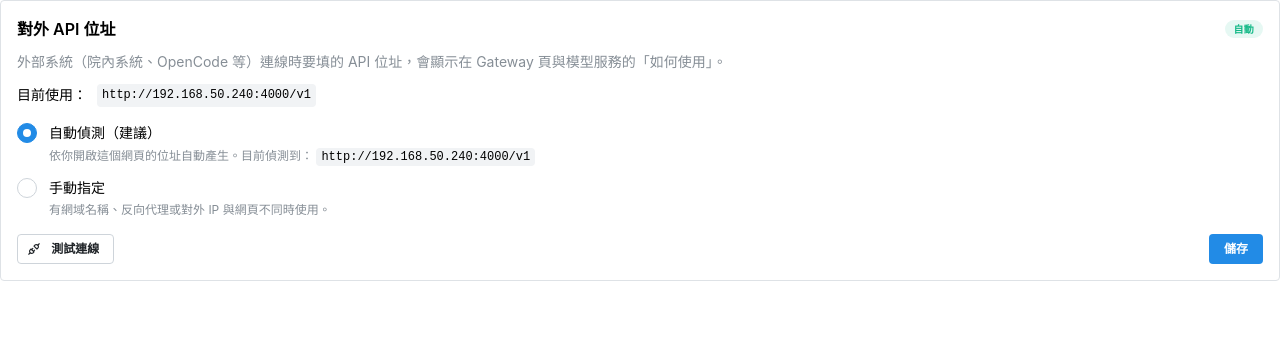
Test case: ApiBaseCard › shows auto value and switches to manual
expect the text with test id "api-base-effective" reads "http://192.168.50.240:4000/v1": met, box [102, 88, 311, 102]
expect the element with test id "api-base-source" reads "自動": met, box [1234, 23, 1254, 35]
Click the radio button labelled "手動指定" at (27, 188), box [17, 178, 37, 198]
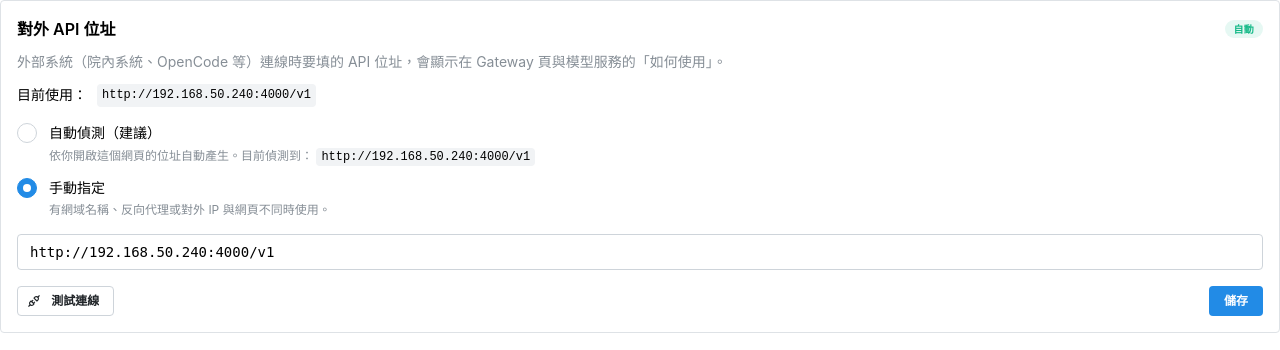
Replace the text in the field with test id "api-base-input" with "https://llm.hospital.lan/v1" at (640, 252), box [17, 234, 1263, 270]
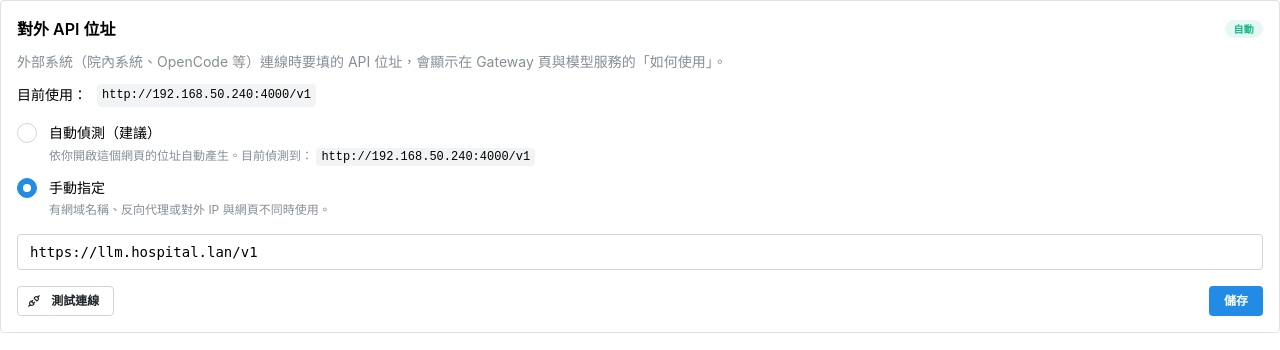
Click the button with test id "api-base-save" at (1236, 301), box [1209, 286, 1263, 316]
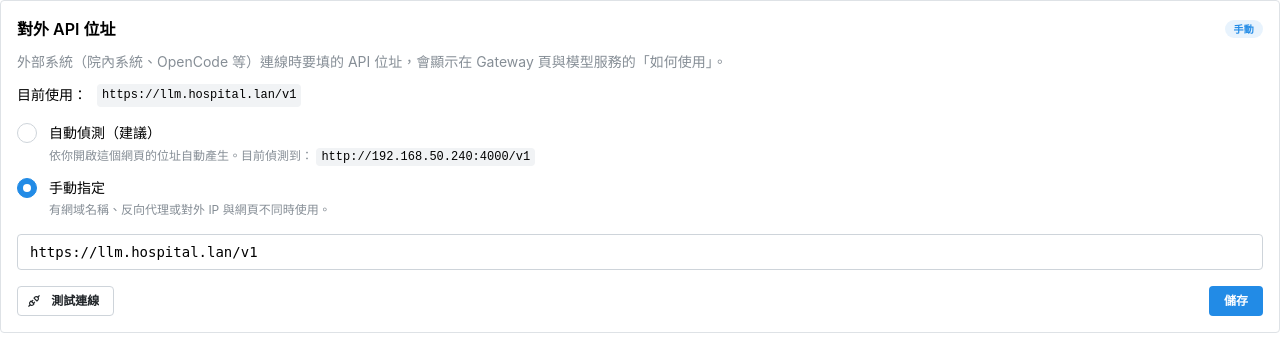
expect the text with test id "api-base-effective" reads "https://llm.hospital.lan/v1": met, box [102, 88, 296, 102]
expect the element with test id "api-base-source" reads "手動": met, box [1234, 23, 1254, 35]
